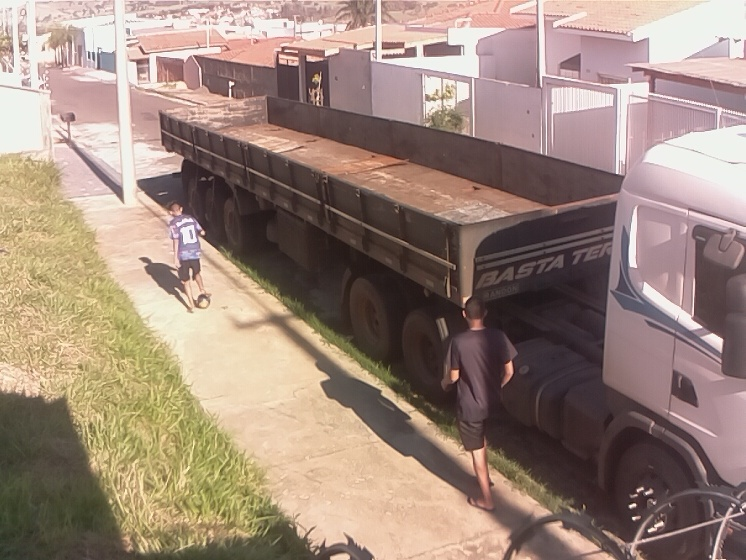person: (436, 294, 520, 516), (165, 199, 214, 316)
